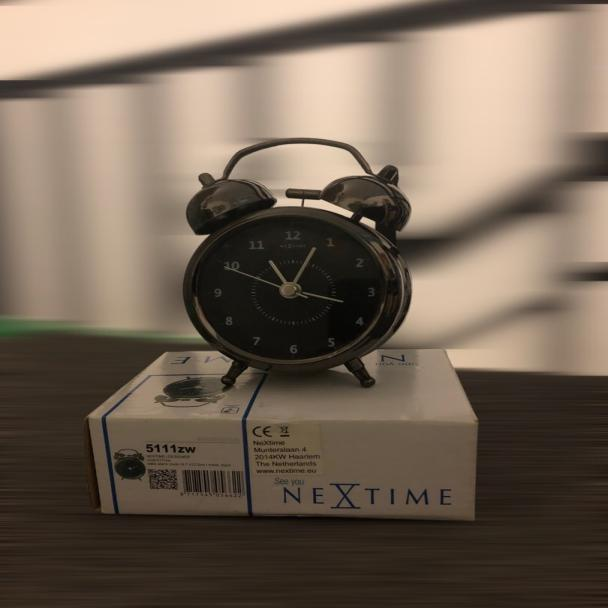Jam: (166, 136, 420, 396)
